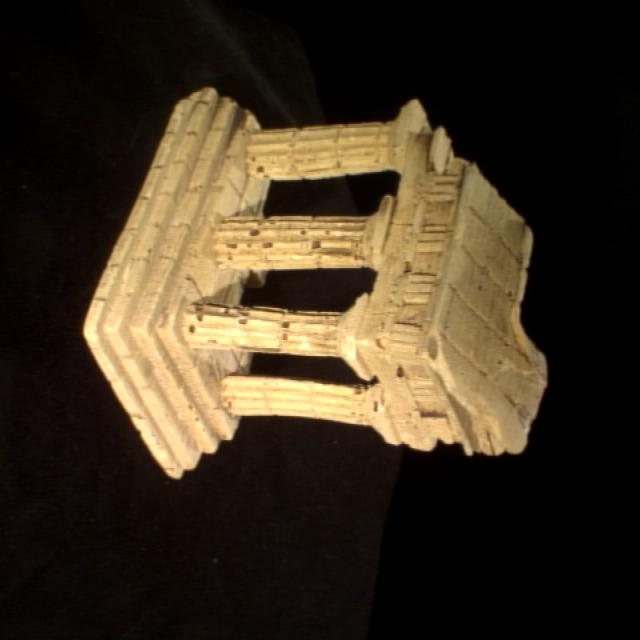Instance-Segmentation: (85, 88, 546, 477)
